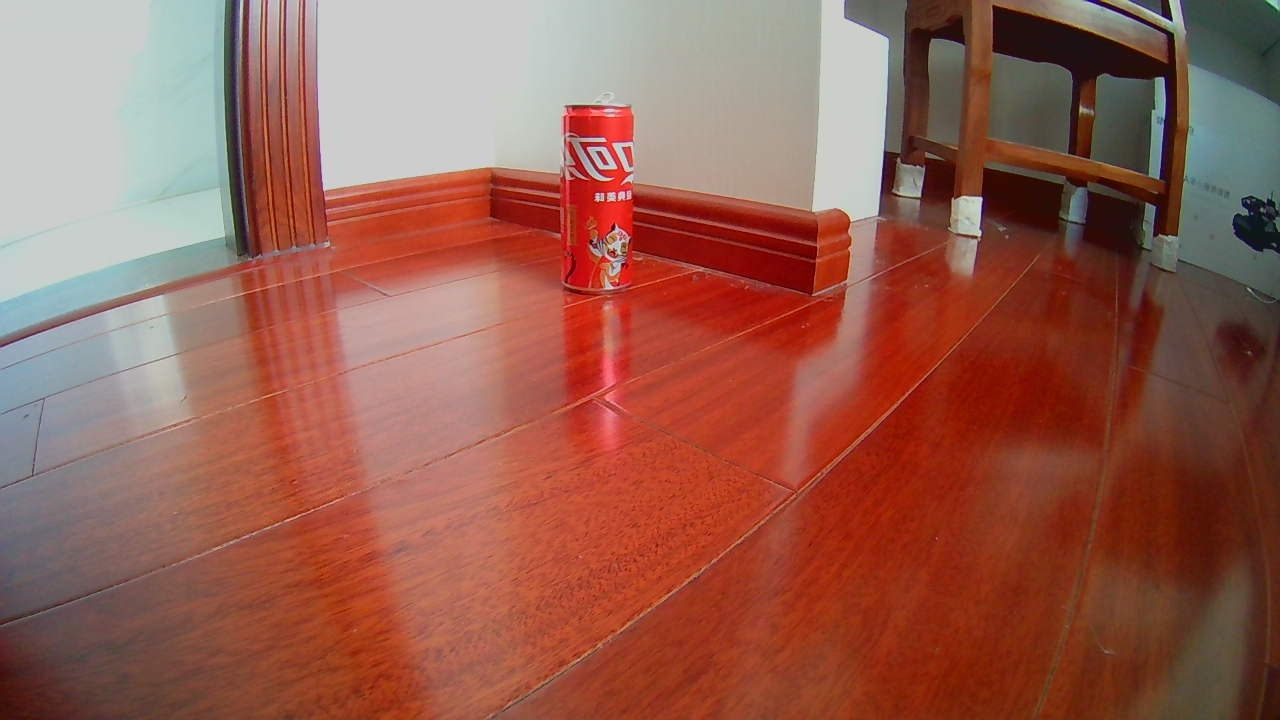cola: (562, 103, 631, 296)
